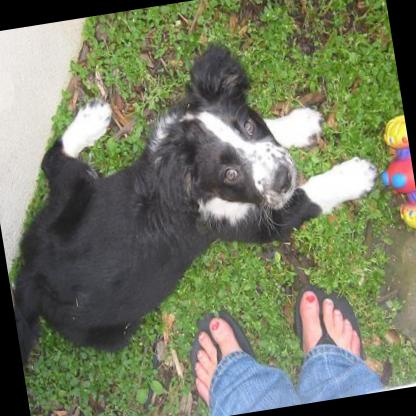English_springer: (0, 22, 396, 357)
